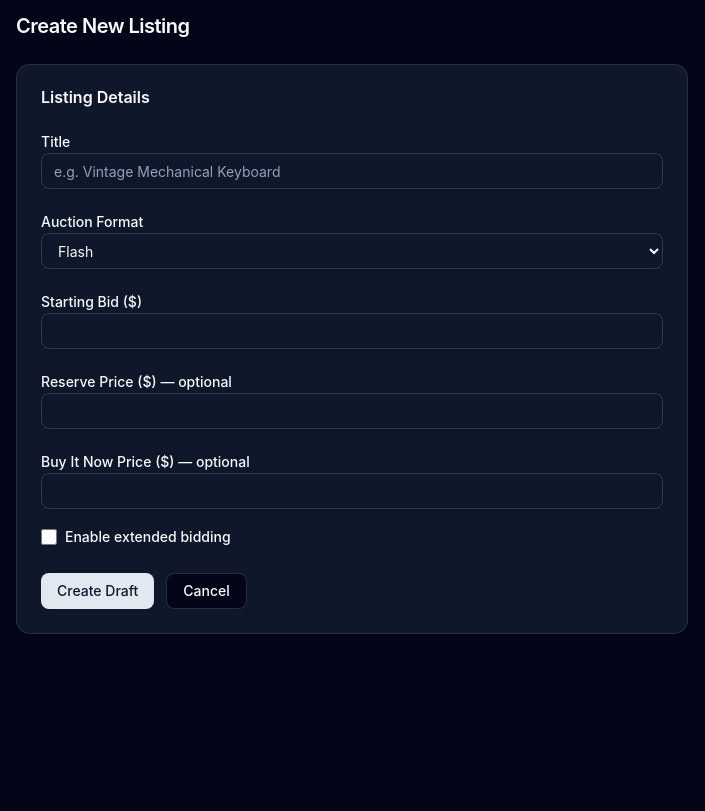
Test: CreateListingPage › shows extended-bidding fields when checkbox is checked
Expected: the field labelled "Title" is shown, top-left (41, 153), bottom-right (663, 189)
Expected: the field labelled "Trigger Window" is not shown
Click the checkbox labelled "Enable extended bidding" at (49,537), box top-left (41, 529), bottom-right (57, 545)
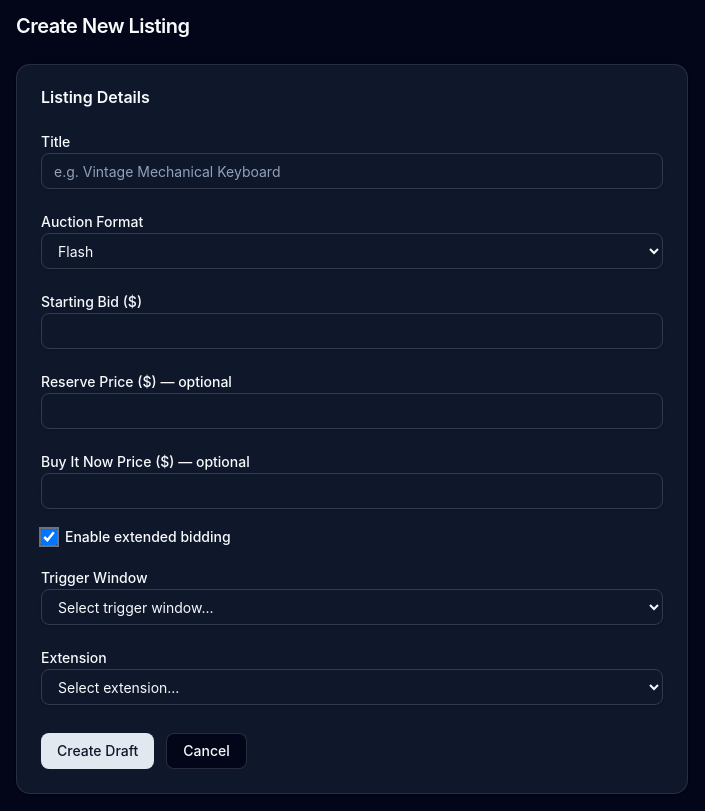
Expected: the dropdown labelled "Trigger Window" is shown, top-left (41, 589), bottom-right (663, 625)
Expected: the dropdown labelled "Extension" is shown, top-left (41, 669), bottom-right (663, 705)
